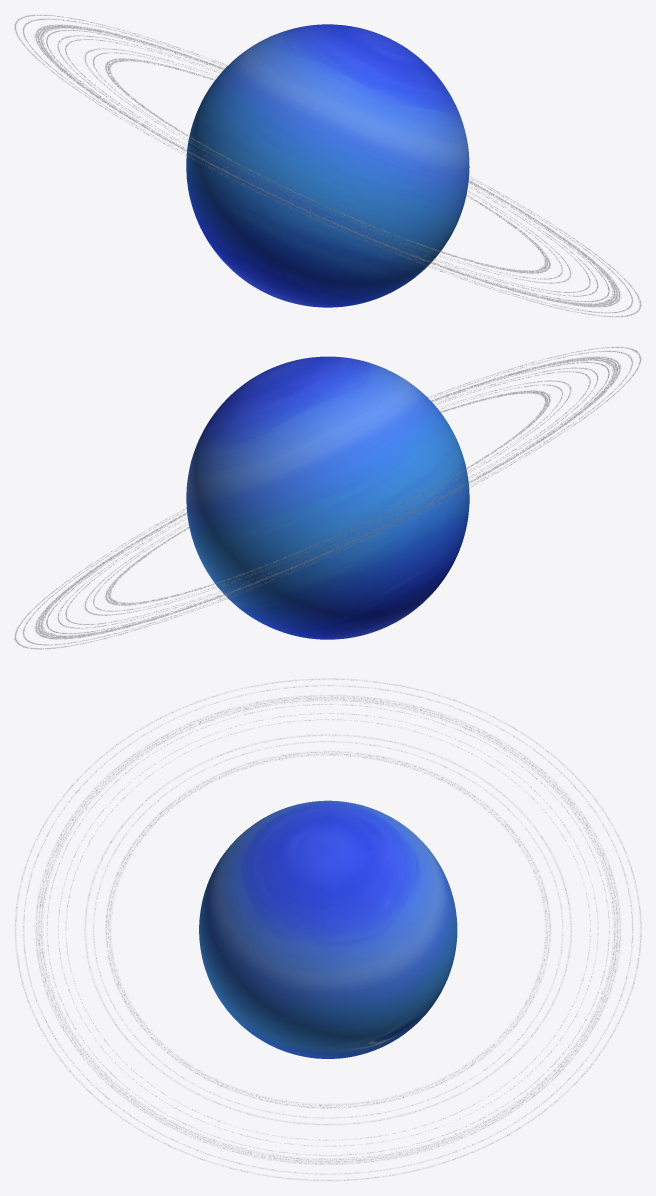
File: neptune-draco.glb
3 views of the same model, one above another, from view 1: azimuth 30°, elevation 25°; view 2: azimuth 150°, elevation 25°; view 3: azimuth 270°, elevation 25° (orthographic). The views are drawn at different scales.
Visible parts, largest first — view 1: neptune1_A, neptune2_A; view 2: neptune1_A, neptune2_A; view 3: neptune1_A, neptune2_A.
Part boxes in pixels (left/top/right/bottom): neptune1_A: left=186, top=24, right=469, bottom=307; neptune2_A: left=14, top=15, right=641, bottom=317; neptune1_A: left=186, top=356, right=469, bottom=639; neptune2_A: left=14, top=347, right=641, bottom=649; neptune1_A: left=199, top=800, right=457, bottom=1058; neptune2_A: left=15, top=678, right=641, bottom=1180.
Size of the model in its own units: 1040 by 562 by 1181.
Materials: 3 (3 with a texture image).
